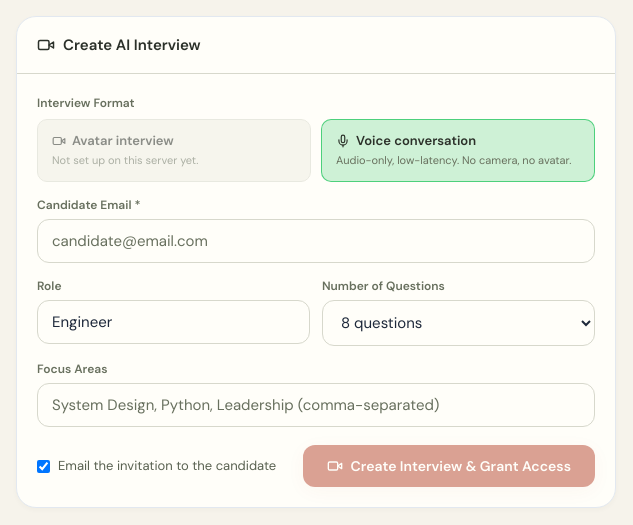
Test: creating an interview › emails the invitation unless told not to
The width and height of the screenshot is (633, 525).
In the field with placeholder "candidate@email.com": (316, 241) [37,219,595,263], type "ada@x.com"
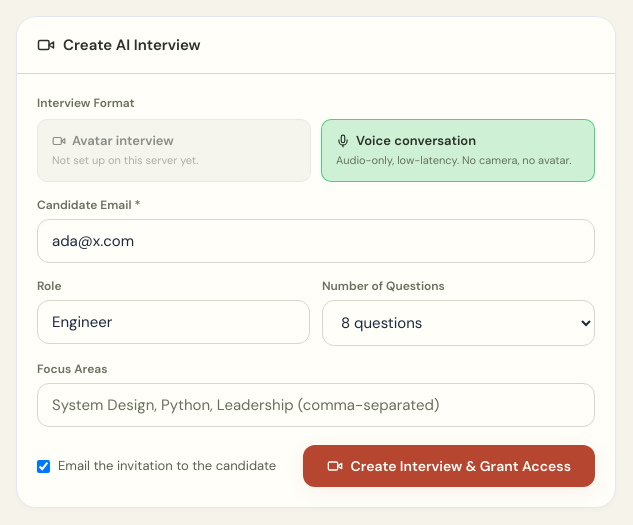
Click the button "Create Interview & Grant Access": (449, 466) [303,445,595,487]
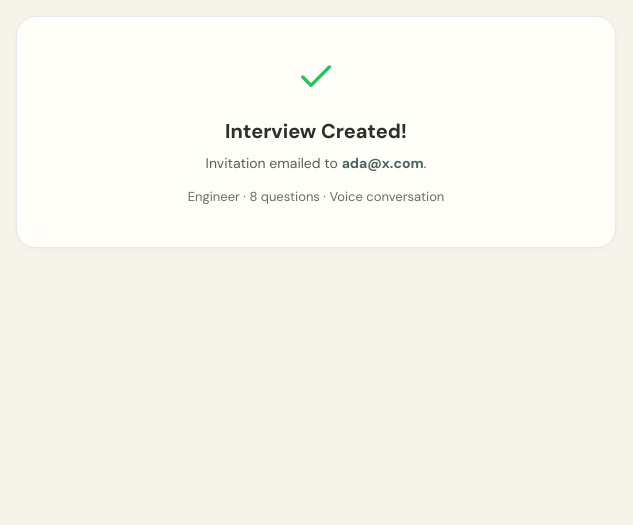
Expected: the heading "Interview Created!" is shown, [225,118,407,144]
Expected: the text "Invitation emailed to ada@x.com." is shown, [206,154,426,172]
